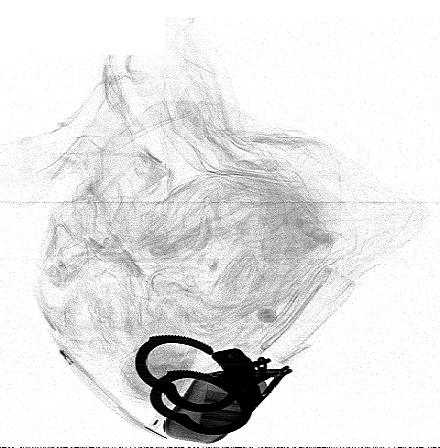HandCuffs: (131, 333, 278, 438)
